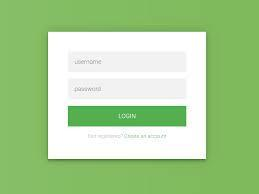button: (69, 107, 188, 127)
input: (68, 52, 189, 75), (69, 78, 188, 101)
